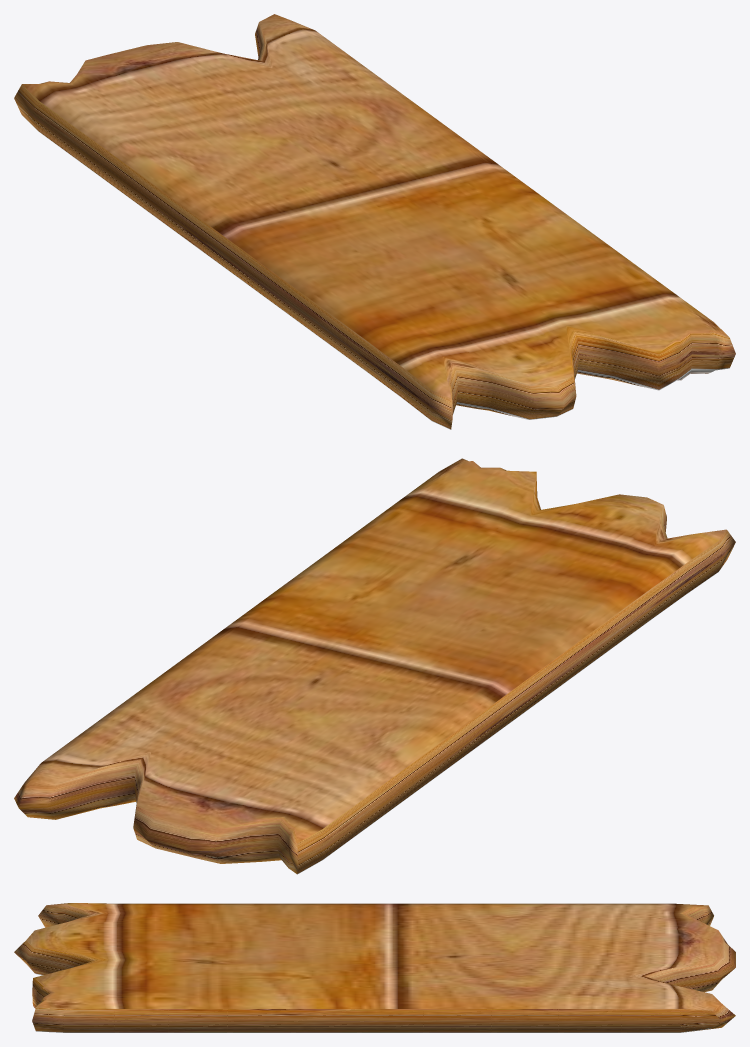
Rendered from plank.fbx.
The picture shows the model from 3 angles, top to bottom: view 1: azimuth 30°, elevation 25°; view 2: azimuth 150°, elevation 25°; view 3: azimuth 270°, elevation 25°; orthographic projection. The views are drawn at different scales.
Parts seen in each view (by area): view 1: pCube1; view 2: pCube1; view 3: pCube1.
Boxes of the visible parts, x1,y1,x2,y2 form: pCube1: (14, 14, 735, 429); pCube1: (14, 458, 735, 874); pCube1: (14, 903, 735, 1032).
Size of the model in its own units: 1.84 by 0.2525 by 5.15.
Materials: 1 (1 with a texture image).
